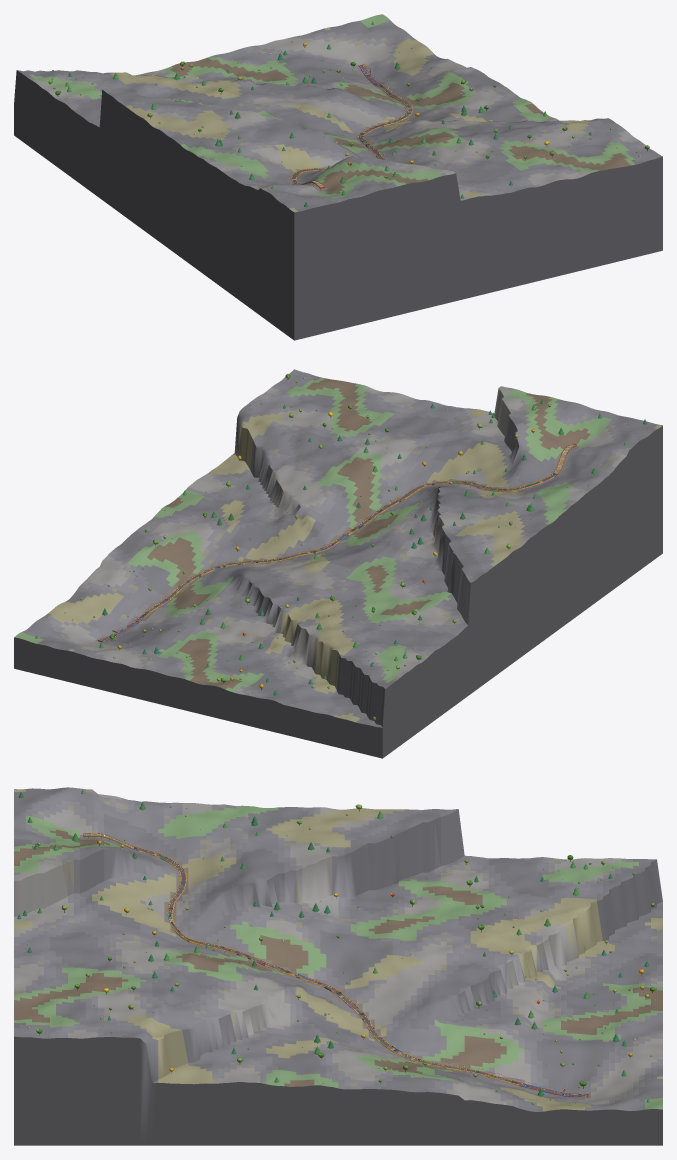
The picture shows the model from 3 angles, top to bottom: view 1: azimuth 30°, elevation 25°; view 2: azimuth 150°, elevation 25°; view 3: azimuth 270°, elevation 25°; orthographic projection. The views are drawn at different scales.
Visible parts, largest first — view 1: grass, pines, road, hay; view 2: grass, hay, pines, road, leafy trees; view 3: grass, hay, pines, road, leafy trees.
Boxes of the visible parts, x1,y1,x2,y2 form: grass: (14, 14, 662, 340); pines: (65, 21, 591, 207); road: (292, 65, 412, 187); hay: (291, 64, 413, 188); grass: (14, 369, 662, 758); hay: (98, 443, 576, 642); pines: (35, 398, 646, 695); road: (99, 444, 574, 641); leafy trees: (109, 373, 550, 720); grass: (14, 787, 662, 1145); hay: (83, 833, 588, 1097); pines: (17, 789, 649, 1102); road: (84, 834, 587, 1096); leafy trees: (36, 804, 654, 1086).
Size of the model in its own units: 492 by 173 by 648.
